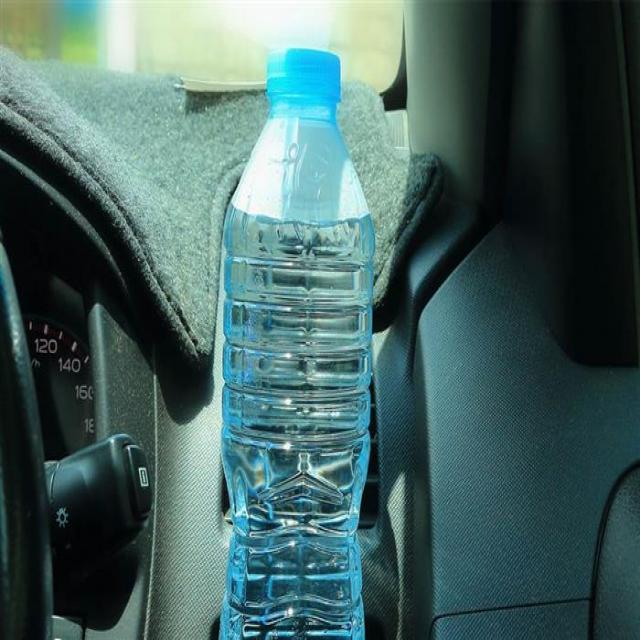Flask: (220, 27, 385, 640)
